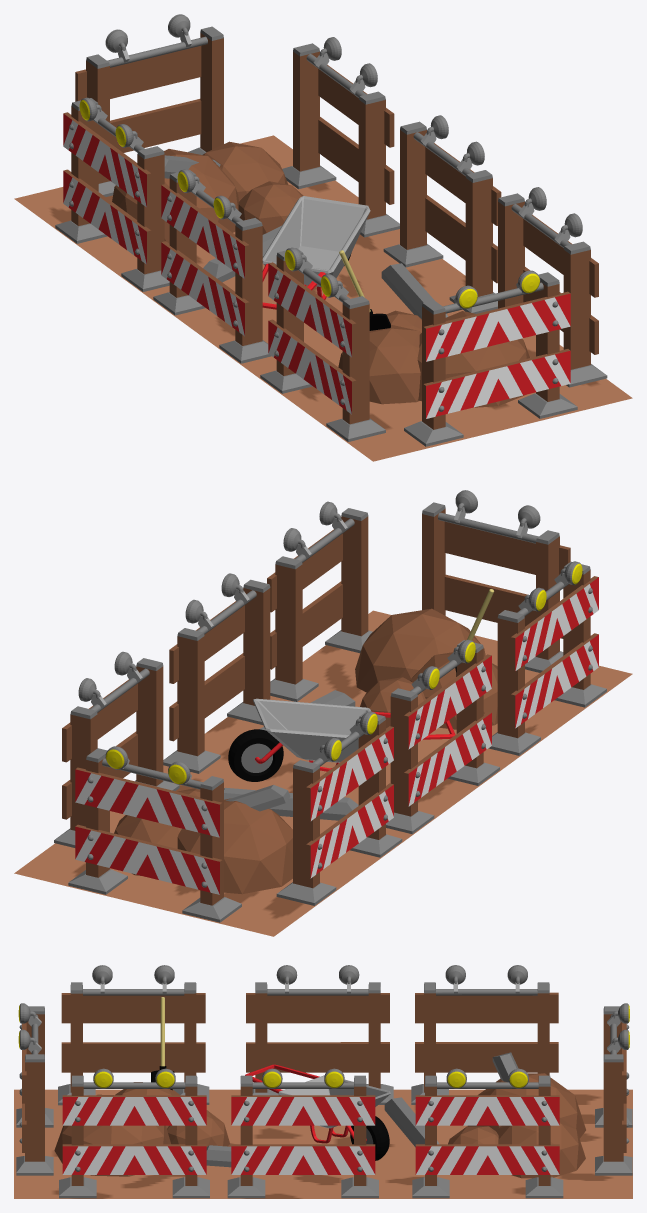
The model's file is Ограждение.fbx.
3 renders of one model, top to bottom at view 1: azimuth 30°, elevation 25°; view 2: azimuth 150°, elevation 25°; view 3: azimuth 270°, elevation 25°, orthographic. The views are drawn at different scales.
Visible parts, largest first — view 1: Plane, Cube.004, Cube.005, Cube.006, Cube.001, Cube.007, Cube, Cube.002, Cube.003, Icosphere, Icosphere.001, Cylinder (+3 smaller); view 2: Plane, Cube, Cube.005, Cube.007, Cube.003, Cube.002, Cube.006, Cube.004, Cube.001, Icosphere.001, Icosphere, Cylinder (+2 smaller); view 3: Plane, Cube.002, Cube.003, Cube.001, Cube.005, Cube.006, Cube.007, Cube, Cube.004, Icosphere, Icosphere.001, Cylinder (+4 smaller).
Part boxes in pixels (x1=…): Plane: x1=14, y1=135, x2=632, y2=461; Cube.004: x1=404, y1=270, x2=577, y2=446; Cube.005: x1=260, y1=247, x2=385, y2=441; Cube.006: x1=153, y1=169, x2=271, y2=363; Cube.001: x1=282, y1=37, x2=399, y2=237; Cube.007: x1=55, y1=97, x2=169, y2=291; Cube: x1=75, y1=14, x2=223, y2=196; Cube.002: x1=383, y1=115, x2=501, y2=313; Cube.003: x1=498, y1=187, x2=607, y2=387; Icosphere: x1=112, y1=141, x2=303, y2=243; Icosphere.001: x1=338, y1=310, x2=529, y2=407; Cylinder: x1=262, y1=196, x2=370, y2=309; Plane: x1=14, y1=610, x2=632, y2=936; Cube: x1=68, y1=746, x2=241, y2=922; Cube.005: x1=488, y1=561, x2=606, y2=755; Cube.007: x1=276, y1=711, x2=402, y2=905; Cube.003: x1=267, y1=501, x2=372, y2=701; Cube.002: x1=163, y1=573, x2=270, y2=773; Cube.006: x1=386, y1=639, x2=499, y2=834; Cube.004: x1=422, y1=490, x2=570, y2=672; Cube.001: x1=54, y1=651, x2=179, y2=847; Icosphere.001: x1=355, y1=608, x2=497, y2=729; Icosphere: x1=114, y1=788, x2=292, y2=894; Cylinder: x1=228, y1=698, x2=455, y2=781; Plane: x1=14, y1=1089, x2=632, y2=1198; Cube.002: x1=227, y1=1068, x2=378, y2=1198; Cube.003: x1=59, y1=1068, x2=209, y2=1198; Cube.001: x1=412, y1=1068, x2=563, y2=1198; Cube.005: x1=58, y1=965, x2=209, y2=1105; Cube.006: x1=246, y1=965, x2=393, y2=1104; Cube.007: x1=411, y1=965, x2=558, y2=1104; Cube: x1=595, y1=1003, x2=632, y2=1175; Cube.004: x1=16, y1=1003, x2=53, y2=1175; Icosphere: x1=448, y1=1073, x2=585, y2=1178; Icosphere.001: x1=54, y1=1082, x2=229, y2=1176; Cylinder: x1=245, y1=1064, x2=390, y2=1160.
Size of the model in its own units: 154 by 83.44 by 369.
